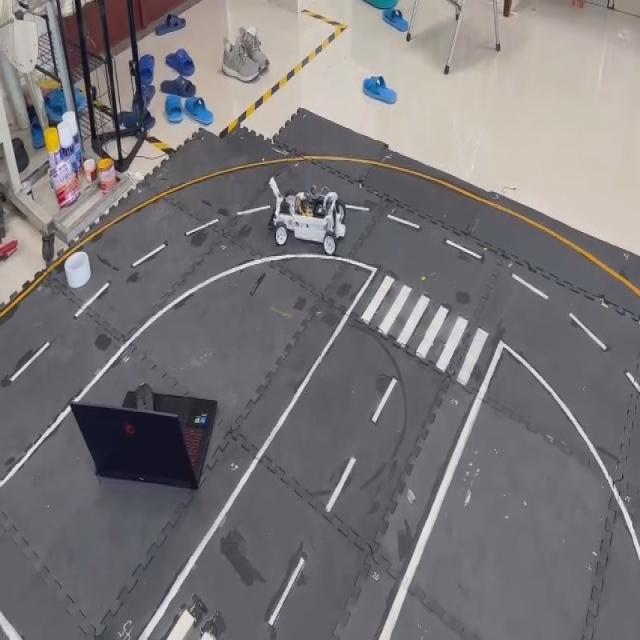SiCo-CAR: (267, 175, 346, 256)
